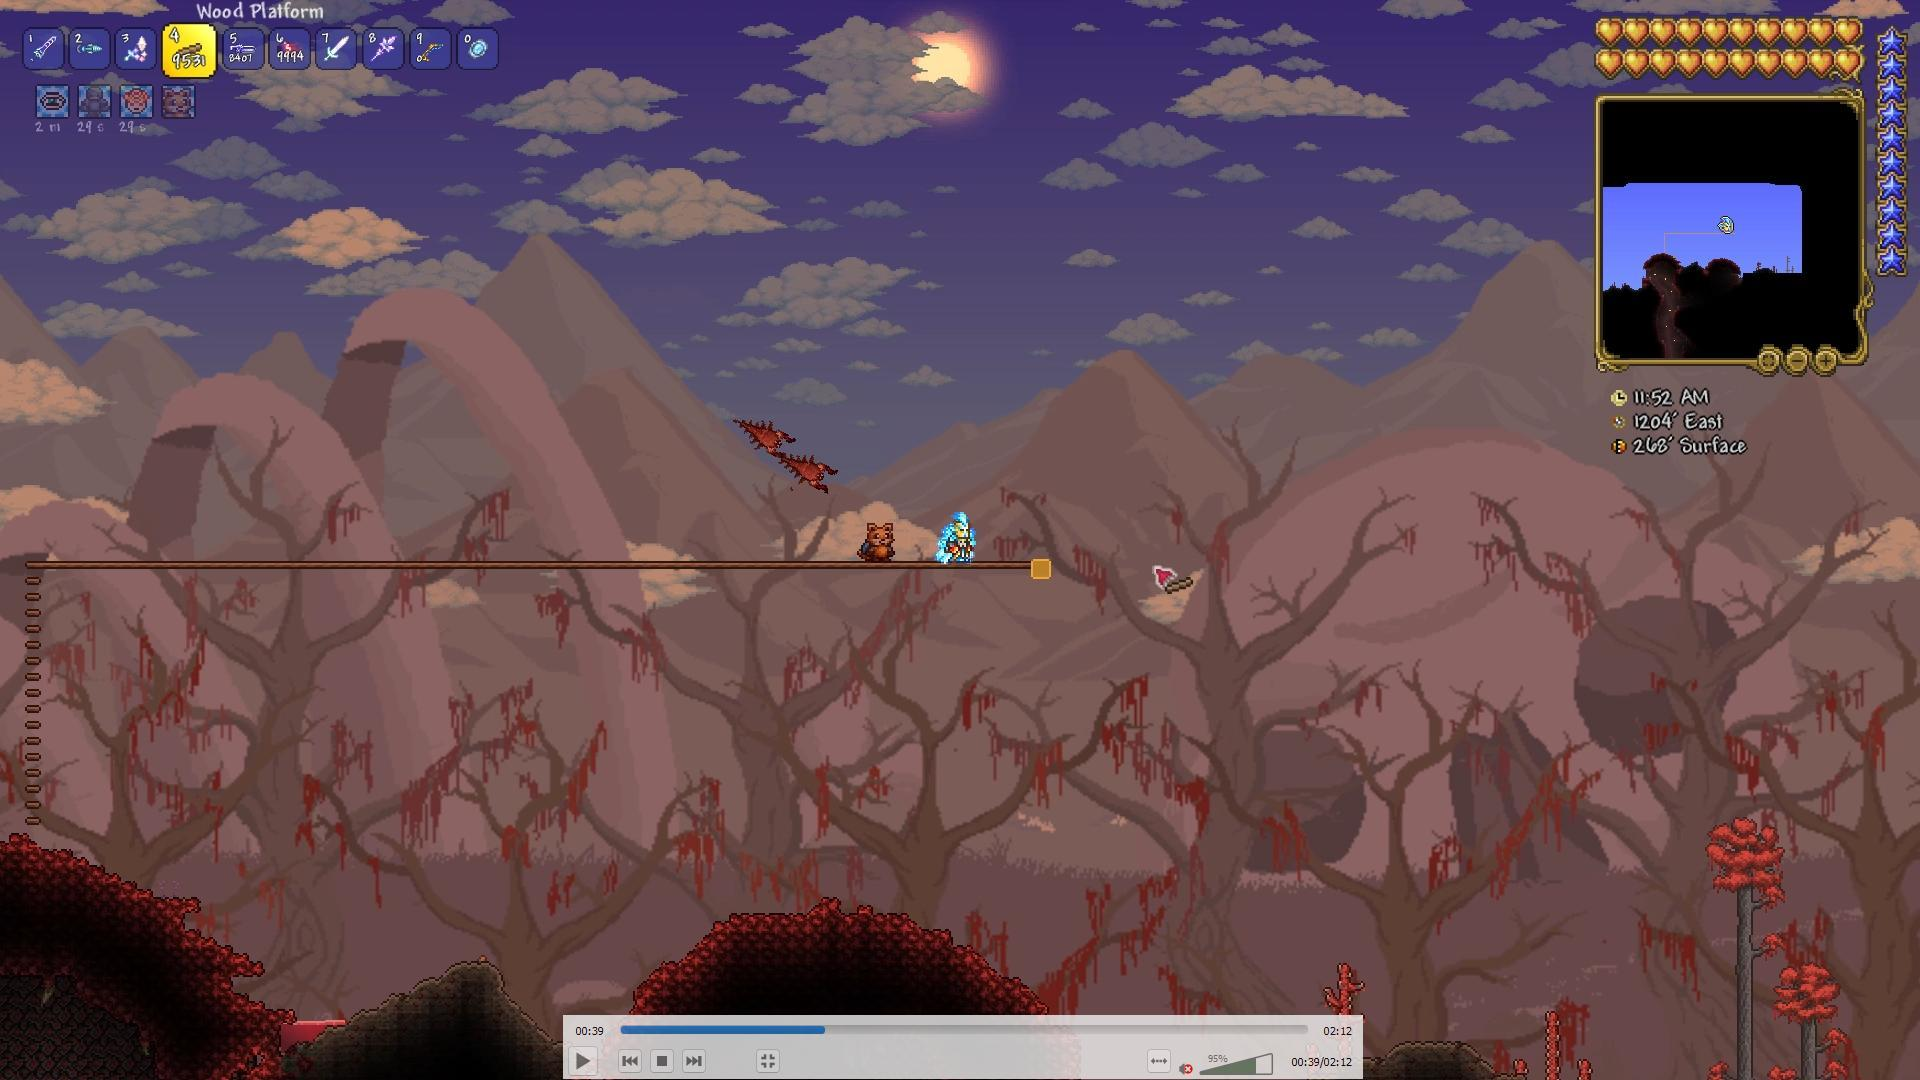crimera: (774, 455, 849, 498), (728, 411, 794, 460)
